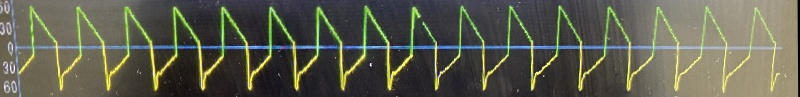peepi: (14, 0, 791, 97)
